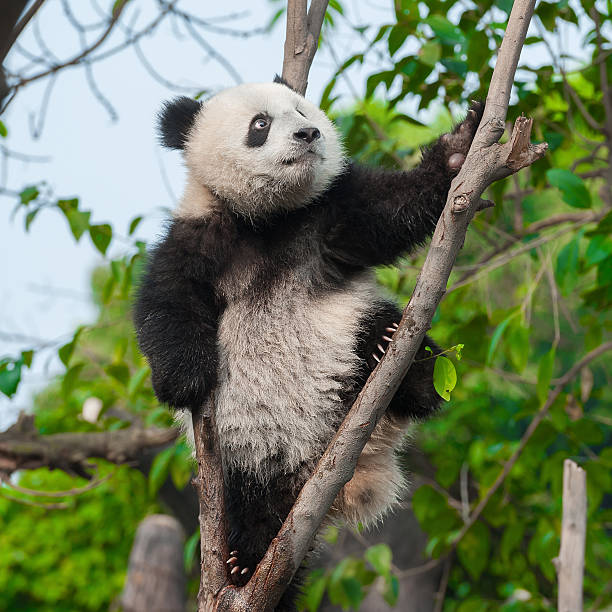panda: (132, 69, 363, 230)
